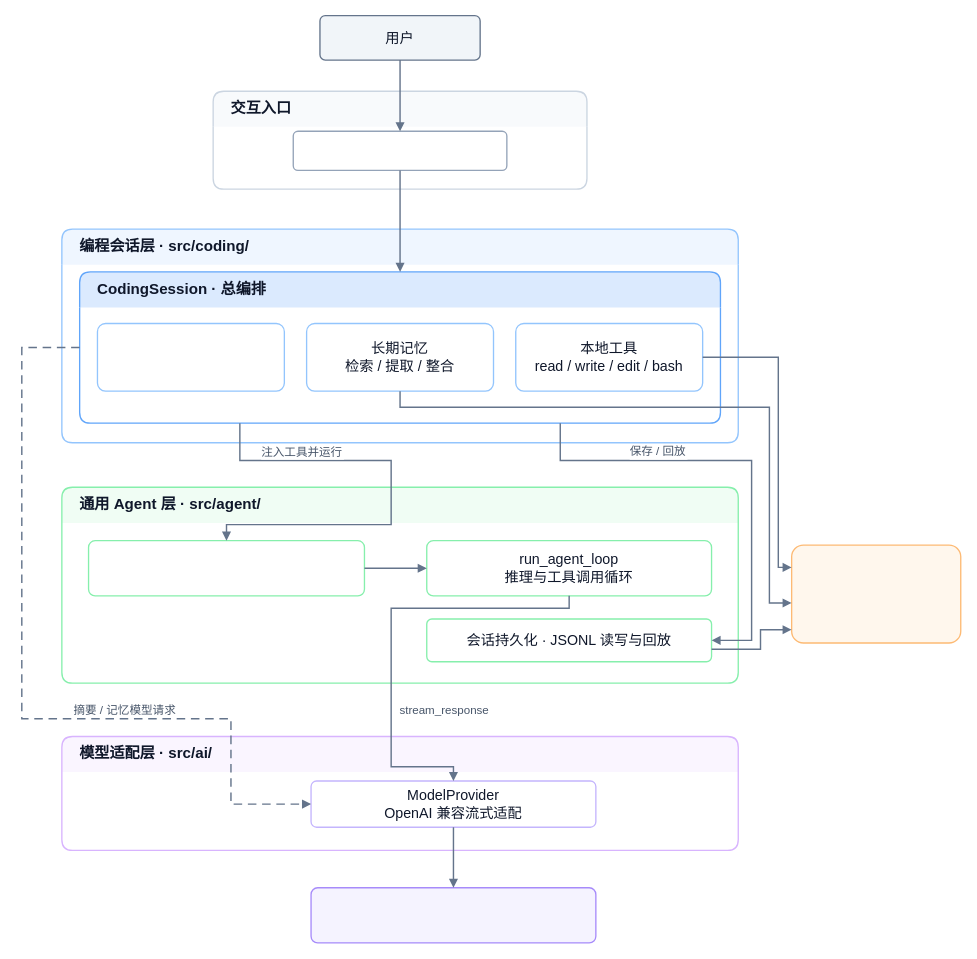
Some shapes in this 977 by 959 pixel diagram are drawn without their labels. Each missing label, with the box of its shape:
AgentHarness 消息与状态管理: (87, 540, 365, 596)
LLM API: (310, 887, 596, 943)
技能 / 提示词 上下文压缩: (96, 322, 285, 391)
本地工作区 与 .tau/ 文件: (791, 544, 961, 643)
终端 TUI / Web UI: (292, 130, 507, 171)
